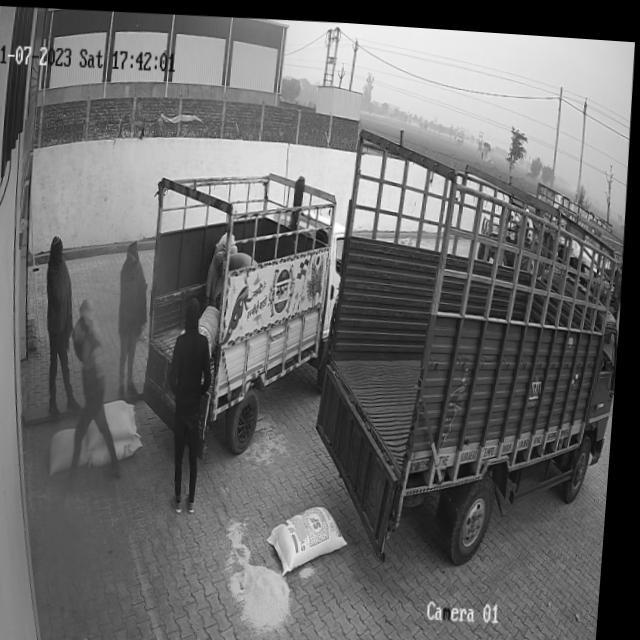sack: (271, 497, 356, 573), (94, 397, 144, 448), (53, 426, 96, 477), (95, 431, 149, 466)
